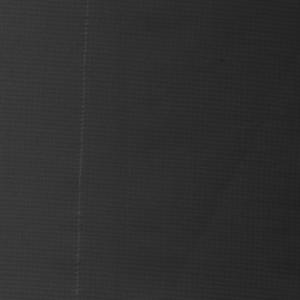Wrinkle: (107, 39, 282, 300)
